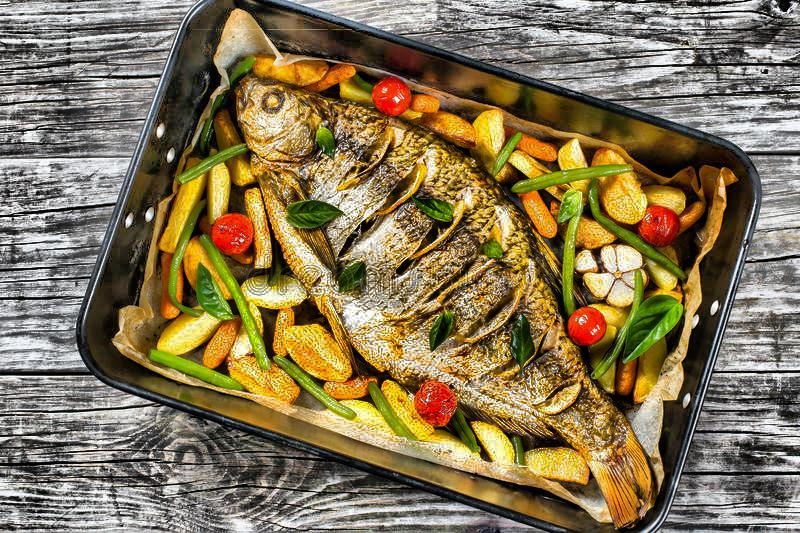fish: (227, 69, 740, 519)
